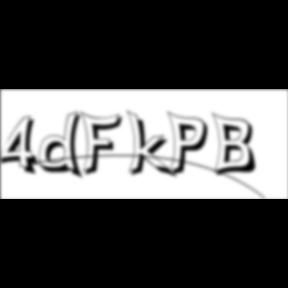4: (0, 115, 46, 179)
B: (212, 111, 262, 179)
F: (80, 110, 128, 178)
P: (168, 110, 214, 180)
d: (39, 110, 89, 182)
k: (126, 108, 180, 181)
